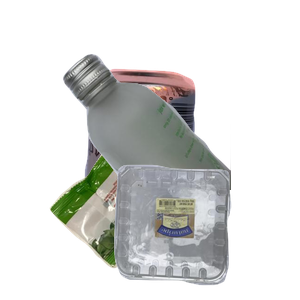glass: (60, 51, 300, 231)
metal: (82, 66, 270, 246)
plastic: (112, 162, 300, 300)
trash: (47, 146, 220, 300)
